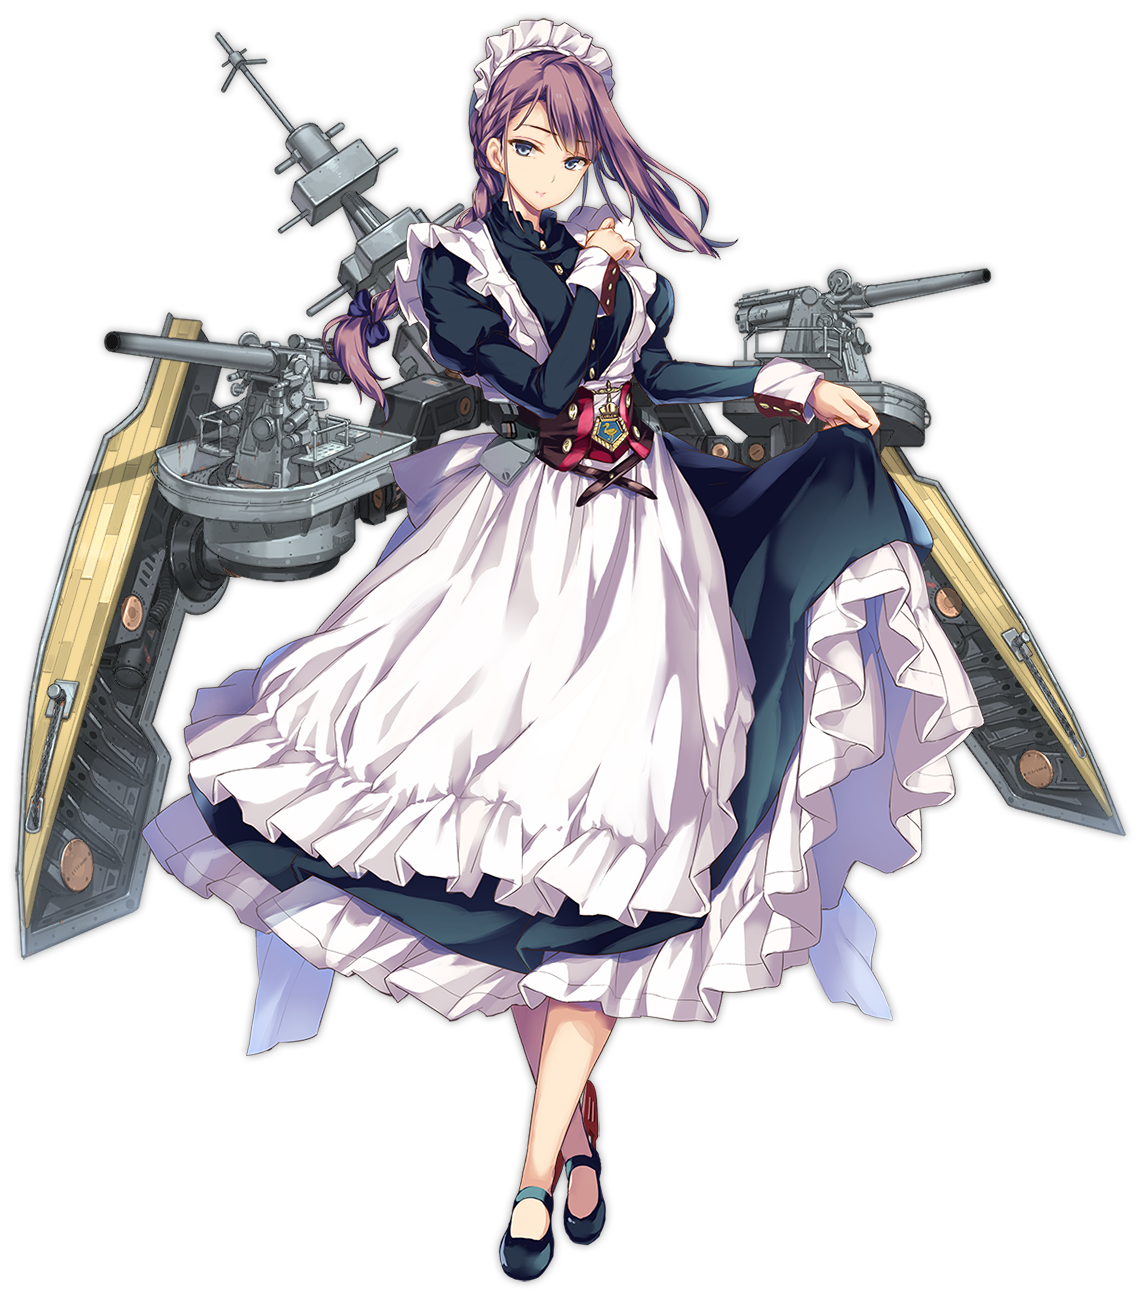person: (190, 38, 823, 925)
